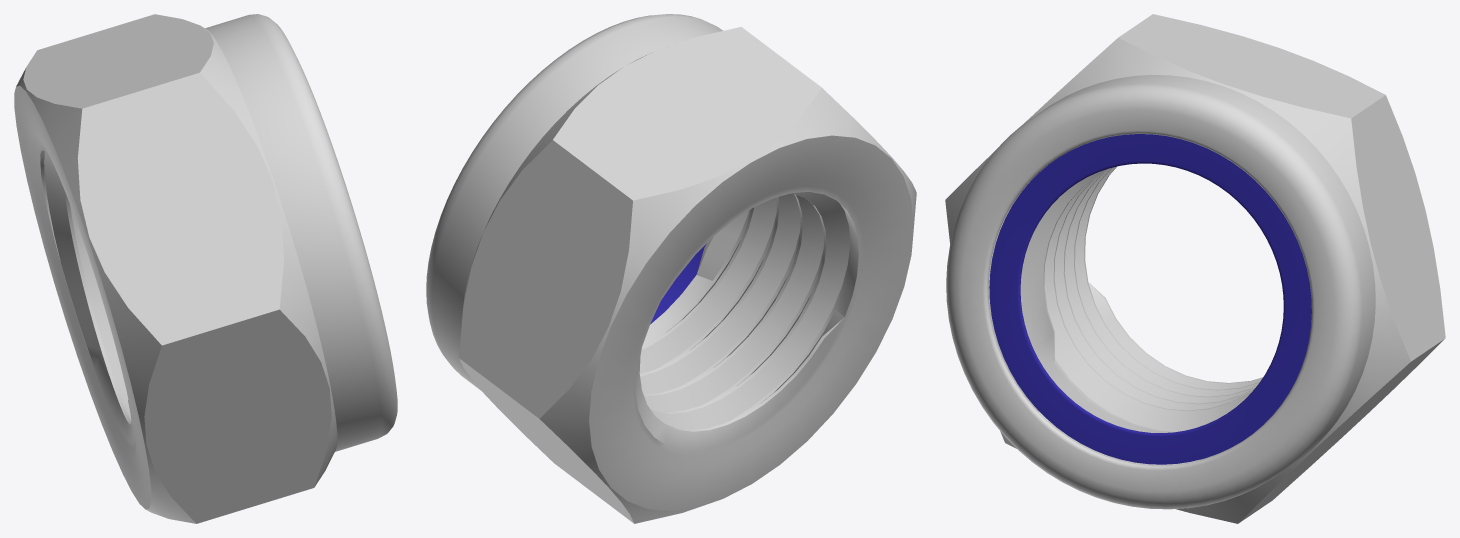
File: nut.glb
3 views of the same model, side by side, from view 1: azimuth 30°, elevation 25°; view 2: azimuth 150°, elevation 25°; view 3: azimuth 270°, elevation 25° (orthographic). The views are drawn at different scales.
Visible parts, largest first — view 1: PIULITA X DREAPTA; view 2: PIULITA X DREAPTA, PIULITA X DREAPTA.001; view 3: PIULITA X DREAPTA, PIULITA X DREAPTA.001.
Part boxes in pixels (<box>): PIULITA X DREAPTA: <box>14,14,397,523</box>; PIULITA X DREAPTA: <box>426,14,916,523</box>; PIULITA X DREAPTA.001: <box>650,244,706,324</box>; PIULITA X DREAPTA: <box>945,14,1445,523</box>; PIULITA X DREAPTA.001: <box>989,134,1311,464</box>.
Bounding box in the file's own units: 0.1095 × 0.138 × 0.1397.
